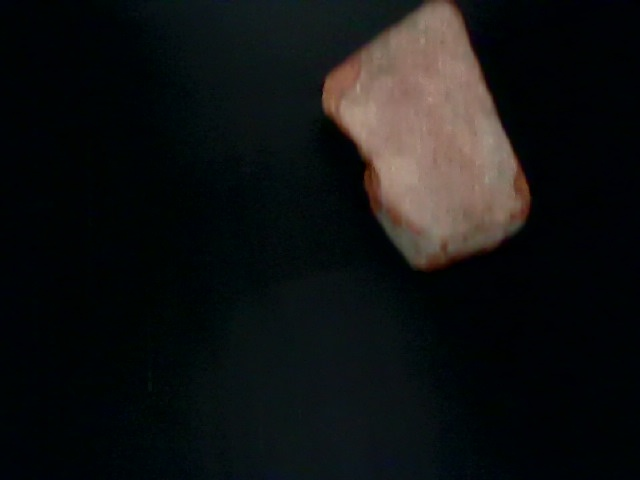KHSLJ: (1, 1, 305, 277)
